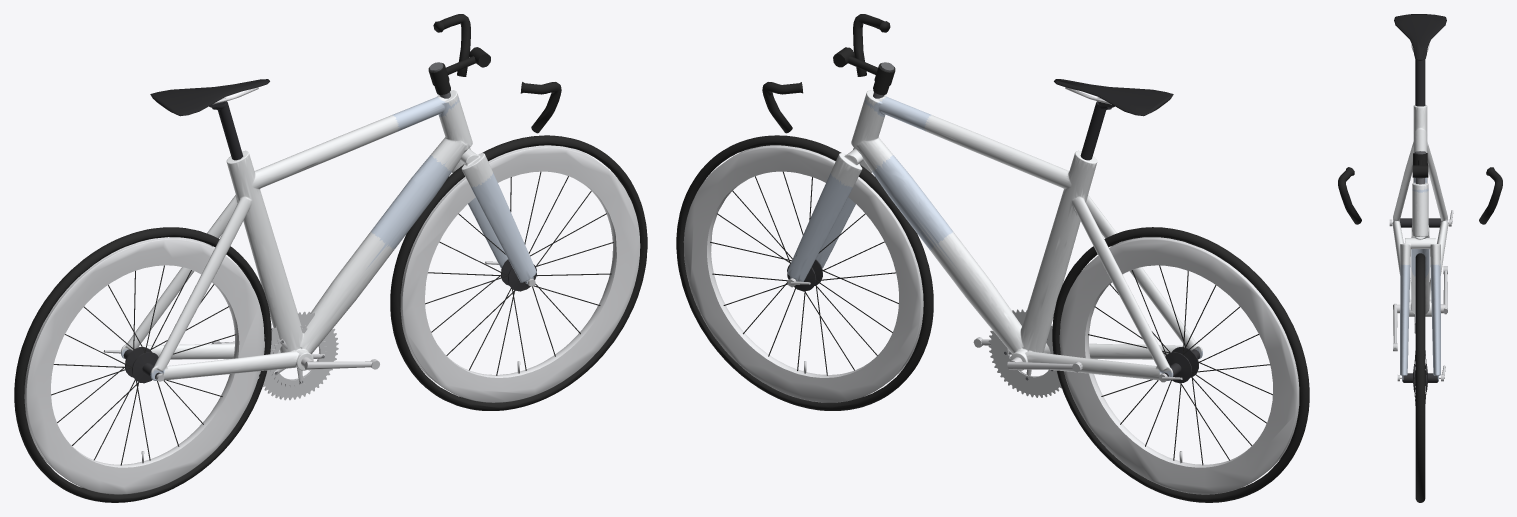
Rendered from bike_lite.glb.
3 views of the same model, side by side, from view 1: azimuth 30°, elevation 25°; view 2: azimuth 150°, elevation 25°; view 3: azimuth 270°, elevation 25° (orthographic). The views are drawn at different scales.
Visible parts, largest first — view 1: saddle, fork, tyre_front, dropbar; view 2: saddle, fork, tyre_front, dropbar; view 3: fork, dropbar, tyre_front, saddle.
Part boxes in pixels (left/top/right/bottom): saddle: left=24, top=79, right=640, bottom=494; fork: left=121, top=90, right=536, bottom=380; tyre_front: left=14, top=135, right=647, bottom=502; dropbar: left=51, top=14, right=613, bottom=465; saddle: left=683, top=79, right=1299, bottom=494; fork: left=787, top=90, right=1202, bottom=380; tyre_front: left=676, top=135, right=1309, bottom=502; dropbar: left=710, top=14, right=1272, bottom=465; fork: left=1392, top=104, right=1448, bottom=381; dropbar: left=1338, top=44, right=1502, bottom=405; tyre_front: left=1415, top=253, right=1425, bottom=502; saddle: left=1394, top=14, right=1446, bottom=60.
Size of the model in its own units: 1.66 by 0.9824 by 0.445.
5 materials, 5 textured.
